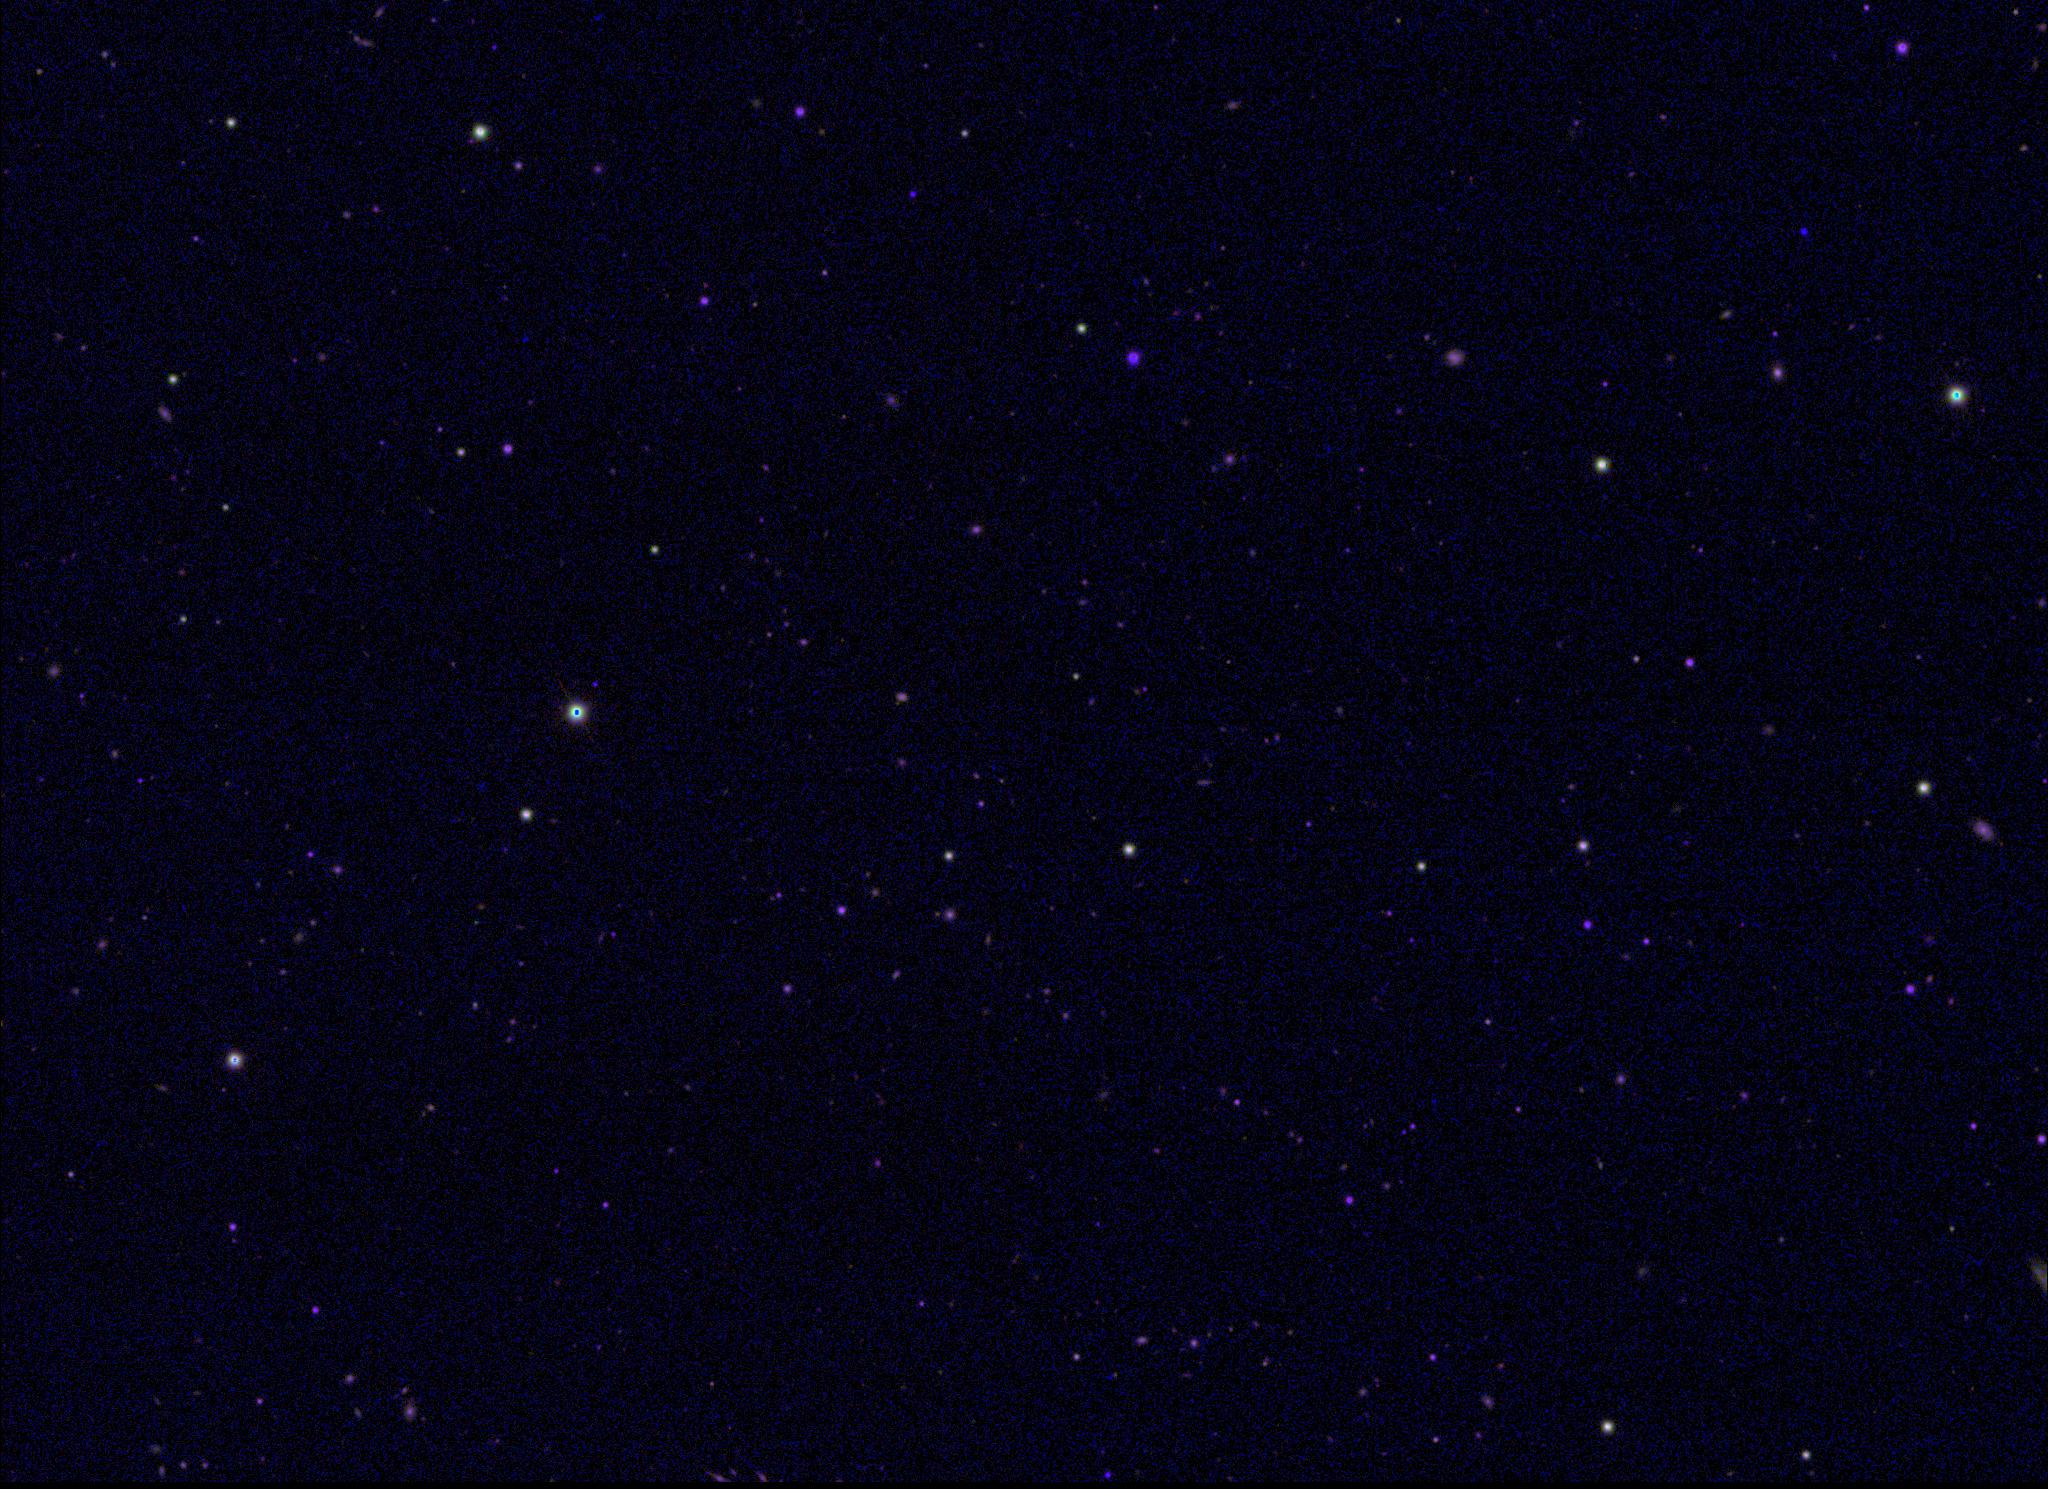L: (1797, 224, 1811, 239)
